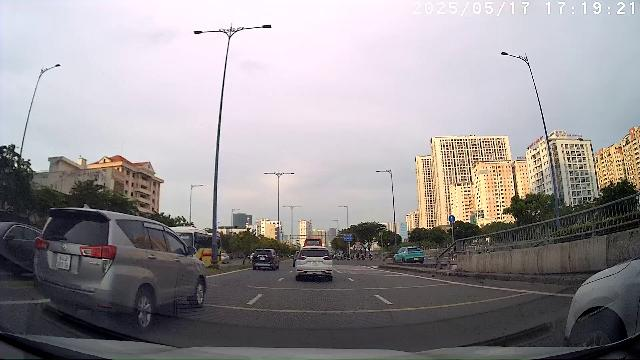301a-cac-xe-chi-duoc-di-thang: (448, 215, 456, 223)
